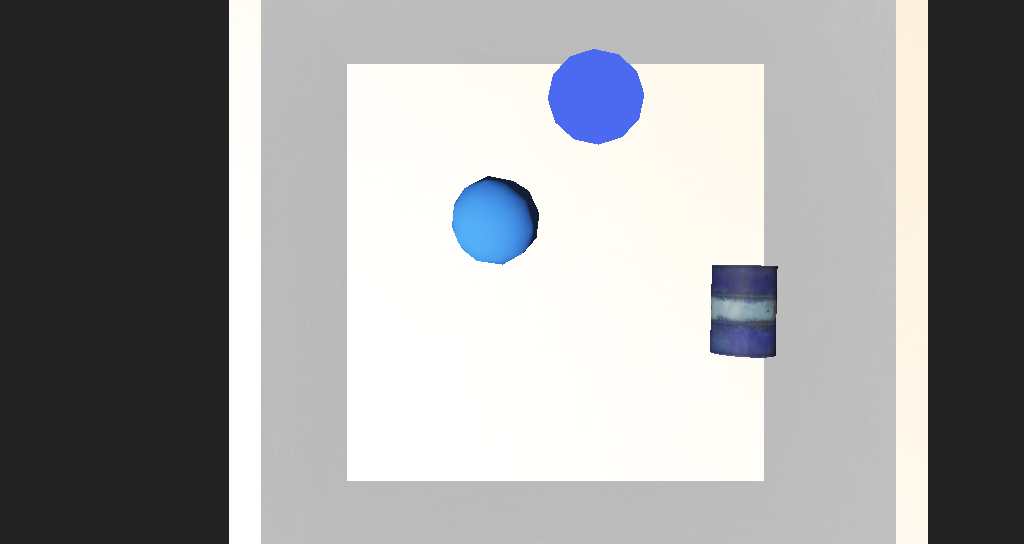cone: (613, 262, 667, 310)
cylinder: (502, 160, 563, 212)
sphere: (435, 222, 495, 265)
